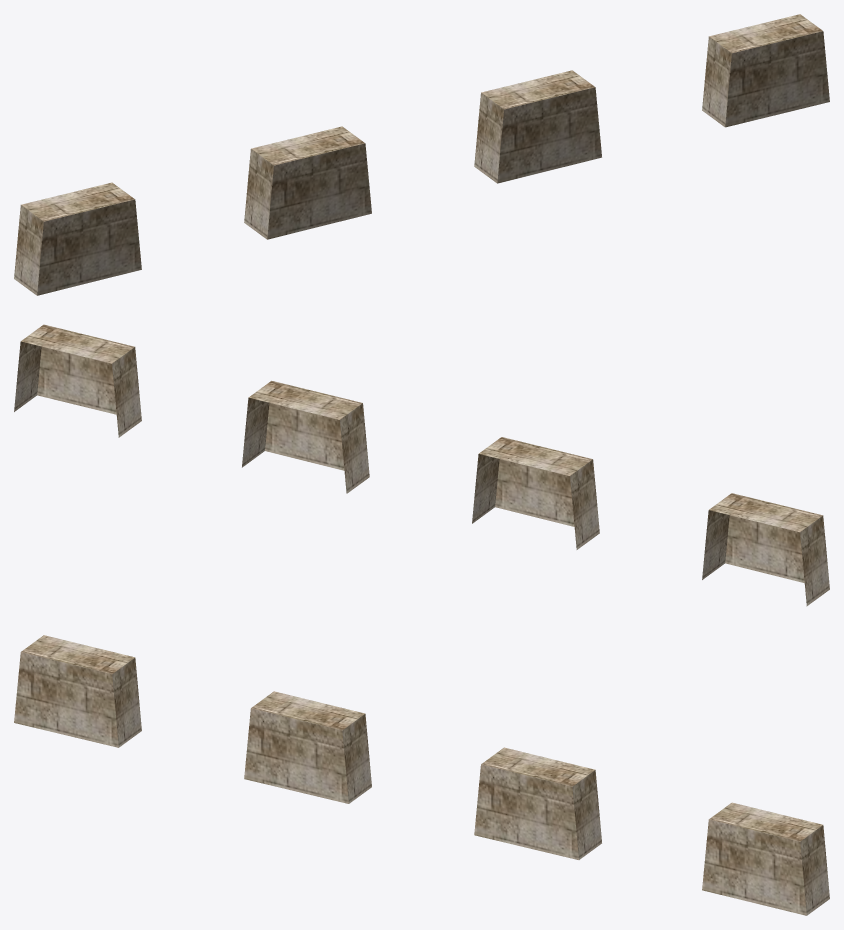
3 renders of one model, top to bottom at view 1: azimuth 30°, elevation 25°; view 2: azimuth 150°, elevation 25°; view 3: azimuth 330°, elevation 25°, orthographic.
Parts seen in each view (by area): view 1: Object105; view 2: Object105; view 3: Object105.
Part boxes in pixels (box(x1,y1,x2,y2)): Object105: box(14, 14, 829, 295); Object105: box(14, 324, 829, 606); Object105: box(14, 635, 829, 915).
Size of the model in its own units: 192 by 16.92 by 9.78.
